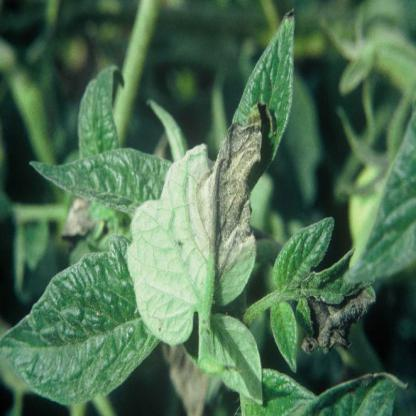tomato leaf late blight: (121, 15, 310, 372)
